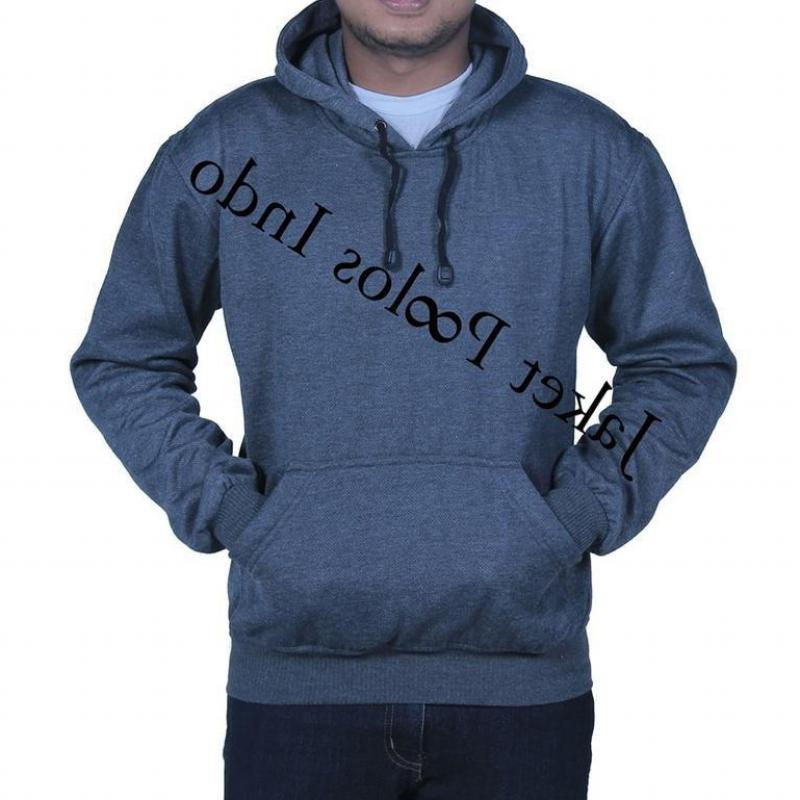sweater: (67, 0, 736, 711)
trousers: (223, 683, 598, 800)
